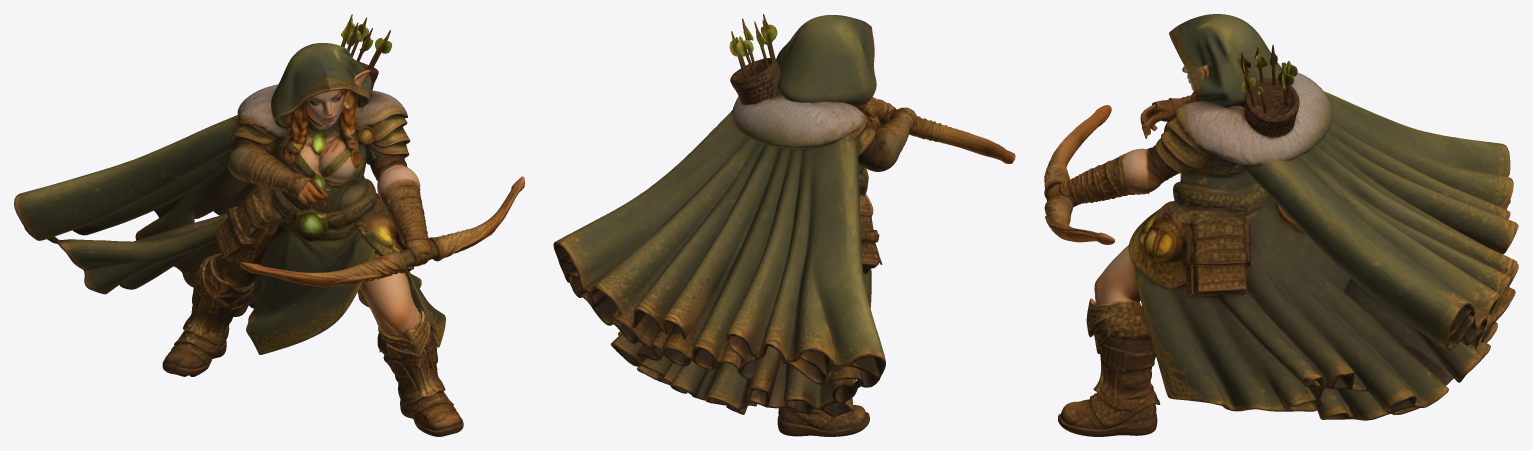
The model's file is dwarf_ranger_full_female_01.glb.
3 renders of one model, left to right at view 1: azimuth 30°, elevation 25°; view 2: azimuth 150°, elevation 25°; view 3: azimuth 270°, elevation 25°, orthographic. The views are drawn at different scales.
Visible parts, largest first — view 1: material; view 2: material; view 3: material.
Part boxes in pixels (left/top/right/bottom): material: left=14, top=14, right=524, bottom=436; material: left=553, top=14, right=1015, bottom=436; material: left=1044, top=14, right=1518, bottom=436.
Bounding box in the file's own units: 0.8504 × 0.8106 × 0.9082.
Materials: 1 (1 with a texture image).
